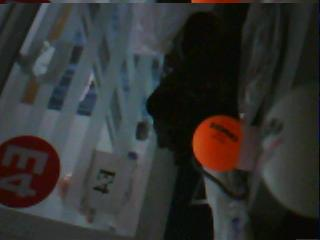oball: (192, 115, 240, 173)
